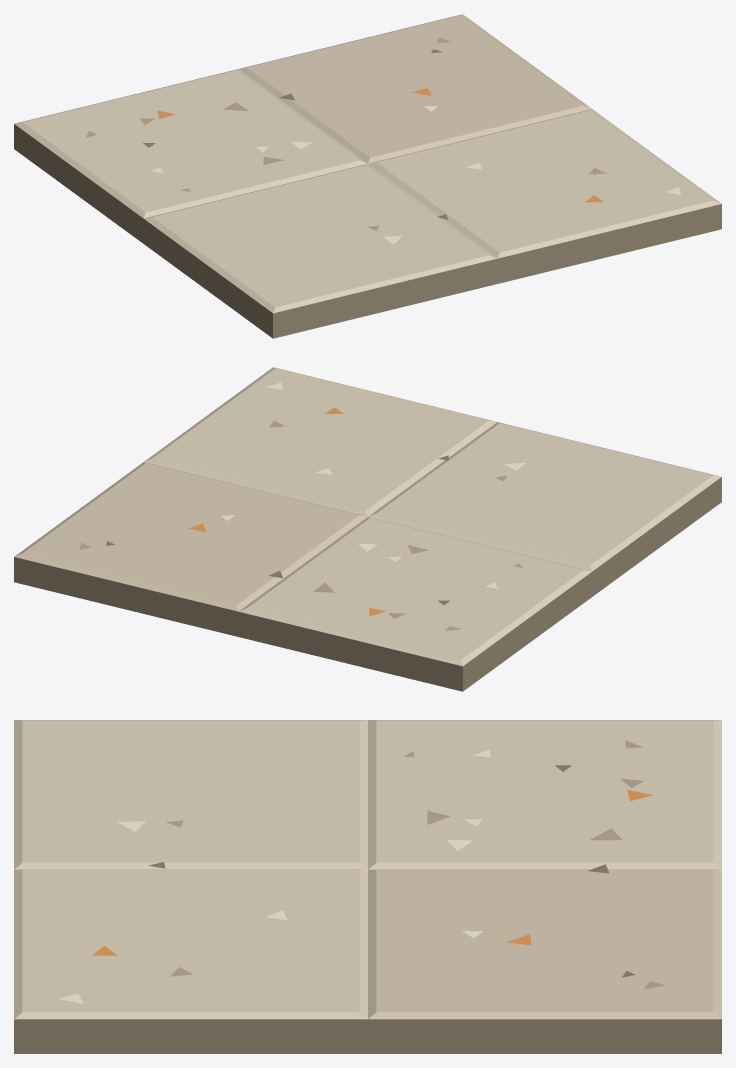
File: boden_terrazzo_b.glb
3 renders of one model, top to bottom at view 1: azimuth 30°, elevation 25°; view 2: azimuth 150°, elevation 25°; view 3: azimuth 270°, elevation 25°, orthographic. The views are drawn at different scales.
Visible parts, largest first — view 1: boden_terrazzo_b; view 2: boden_terrazzo_b; view 3: boden_terrazzo_b.
Part boxes in pixels (x1=…): boden_terrazzo_b: x1=14, y1=14, x2=721, y2=338; boden_terrazzo_b: x1=14, y1=367, x2=721, y2=691; boden_terrazzo_b: x1=14, y1=720, x2=721, y2=1053.
Bounding box in the file's own units: 1 × 0.06 × 1.
